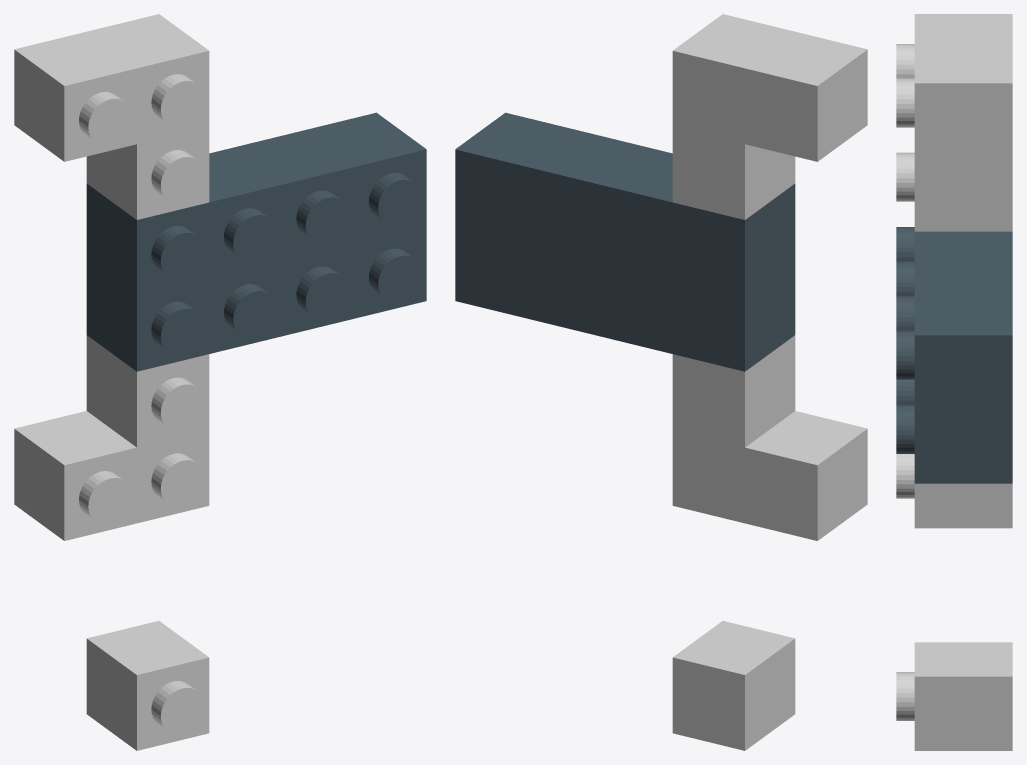
Rendered from current.glb.
The picture shows the model from 3 angles, left to right: view 1: azimuth 30°, elevation 25°; view 2: azimuth 150°, elevation 25°; view 3: azimuth 270°, elevation 25°; orthographic projection. The views are drawn at different scales.
Parts seen in each view (by area): view 1: world; view 2: world; view 3: world.
Part boxes in pixels (x1,y1,x2,y2): world: (14,14,426,750); world: (455,14,867,750); world: (896,14,1012,750).
Bounding box in the file's own units: 40 × 72 × 11.4.
